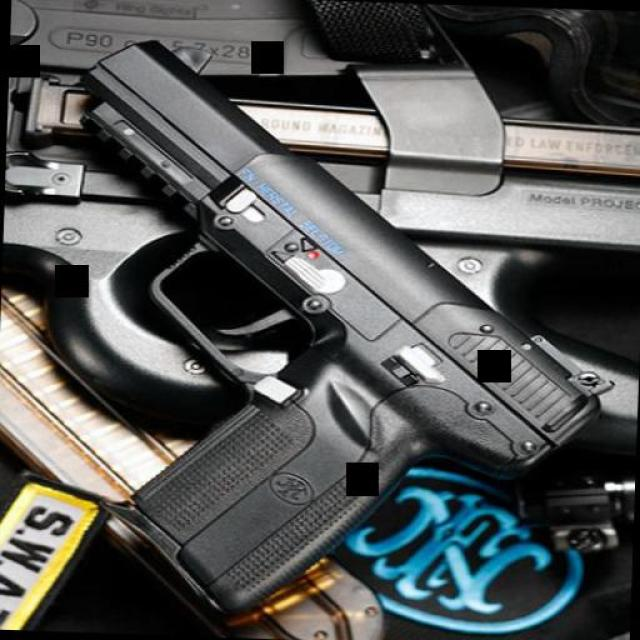gun: (50, 34, 625, 631)
